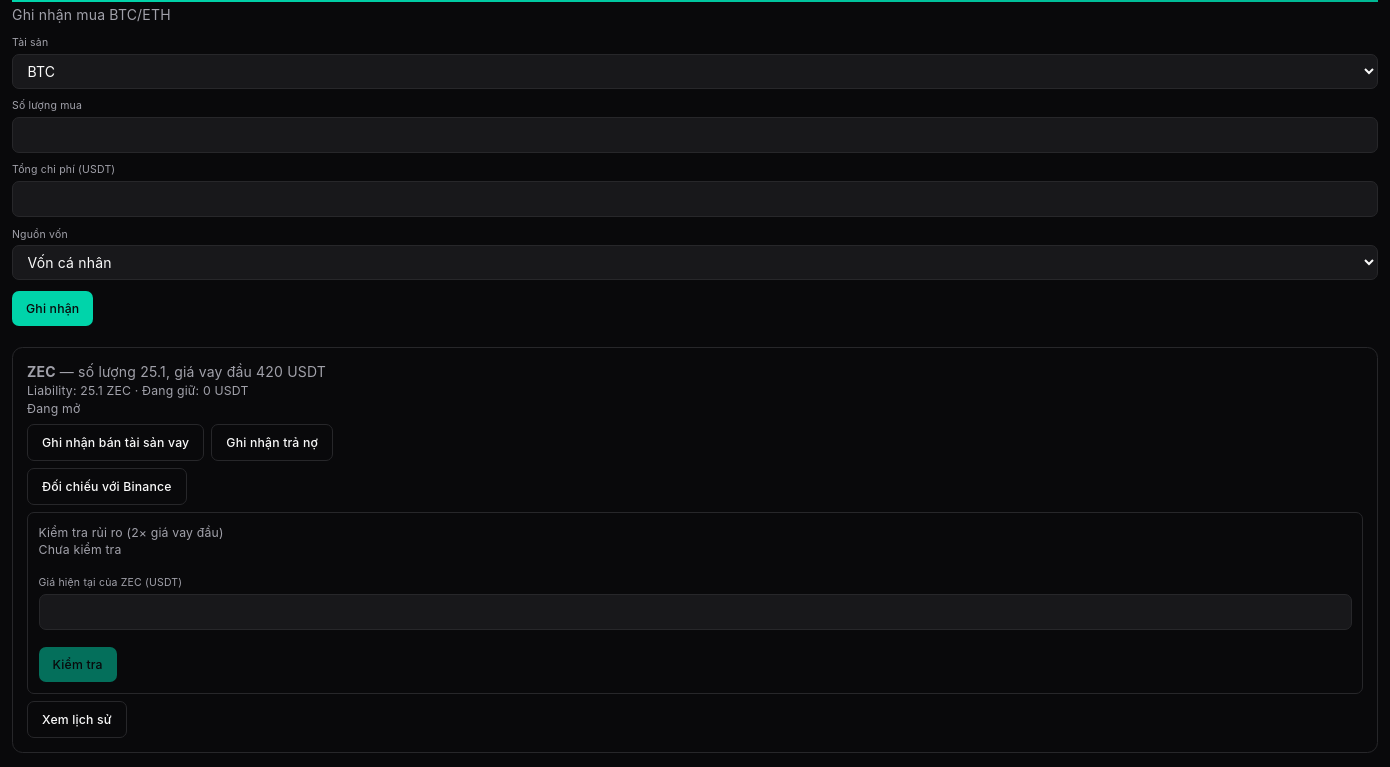
Test: CapitalProvenanceLedgerPage › repaying the full liability shows the REPAID release message (BR-006, AC-006)
The width and height of the screenshot is (1390, 767).
(page scrolled)
Expected: the text "Liability: 25.1 ZEC · Đang giữ: 0 USDT" is shown, [27,383,249,398]
Click the button "Ghi nhận trả nợ" at coordinates (272, 443), box [211,424,333,461]
(page scrolled)
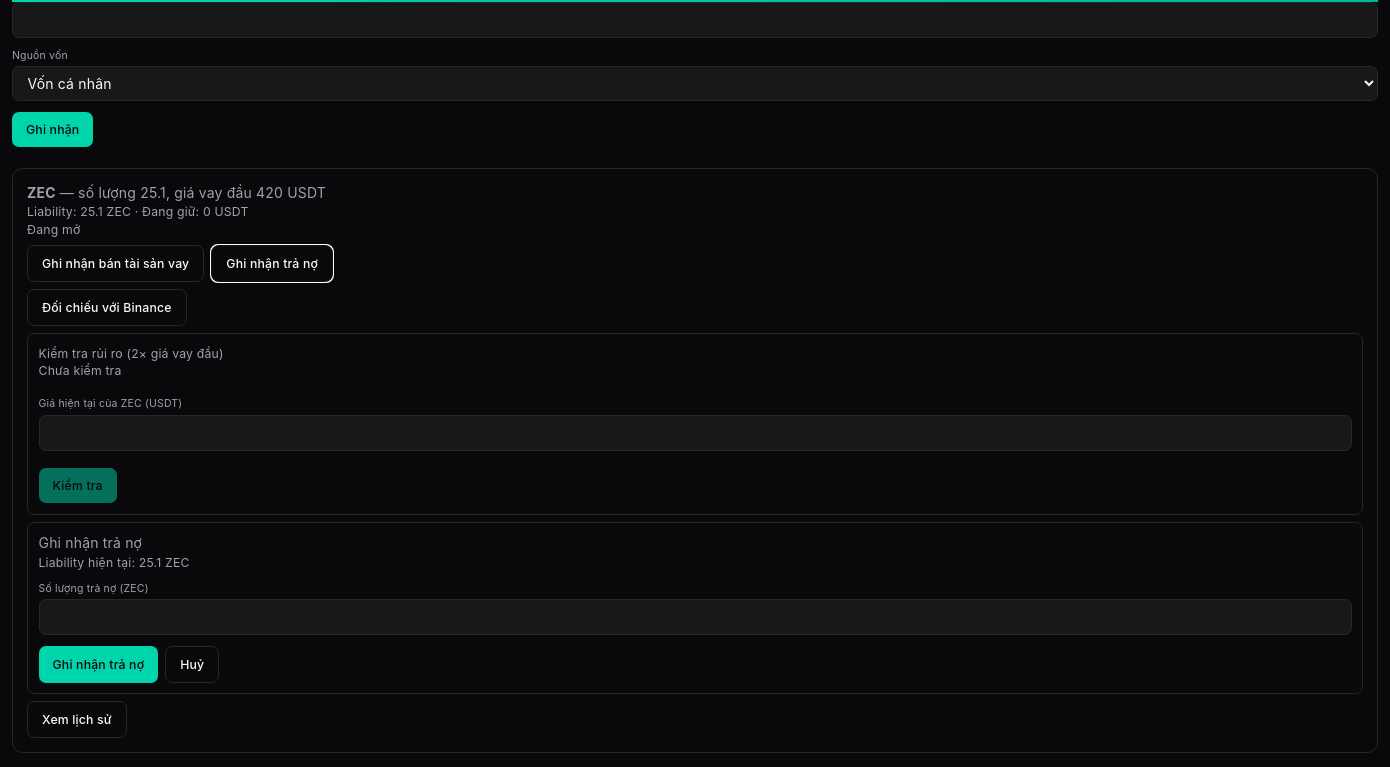
Type "25.1" into the field labelled "Số lượng trả nợ (ZEC)" at coordinates (695, 617), box [38,599,1352,636]
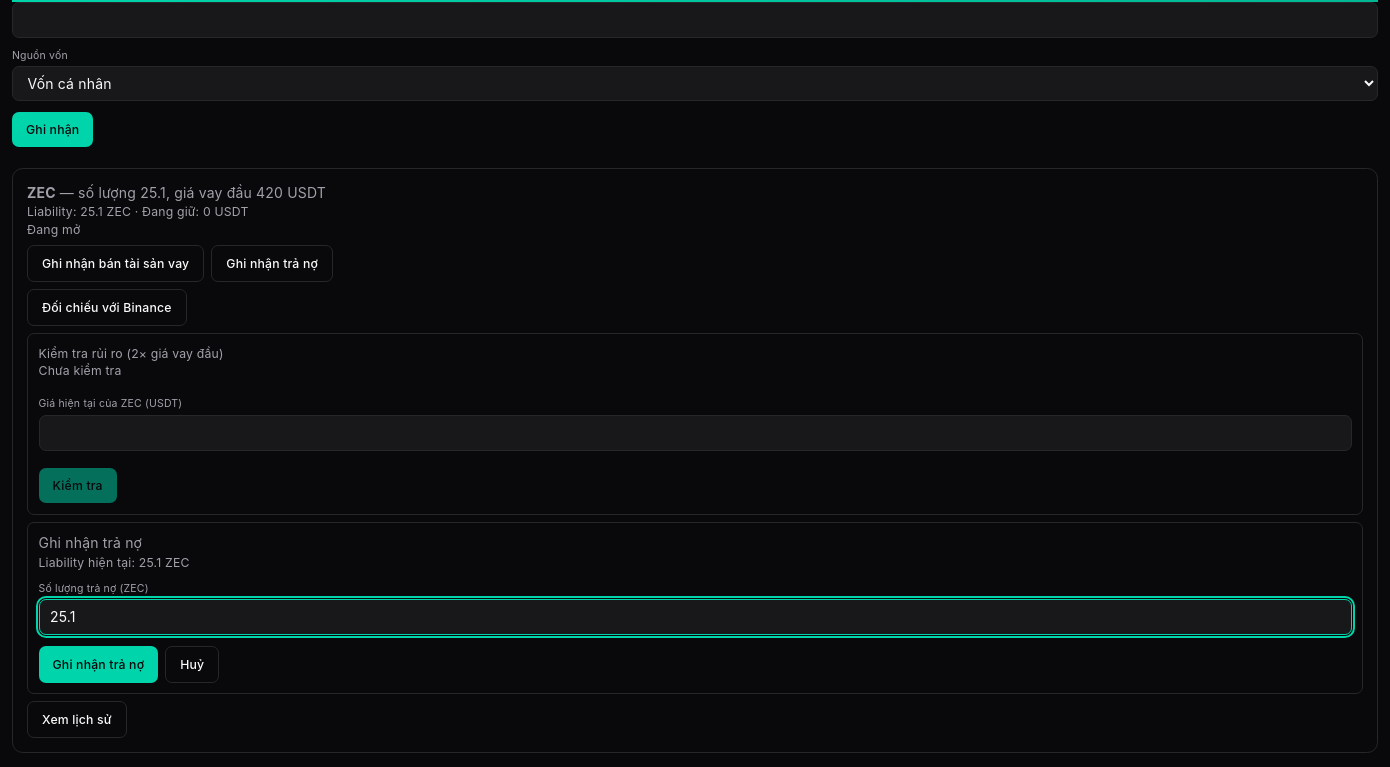
Click the button "Ghi nhận trả nợ" below "Số lượng trả nợ (ZEC)" at coordinates (98, 664), box [38,646,158,683]
(page scrolled)
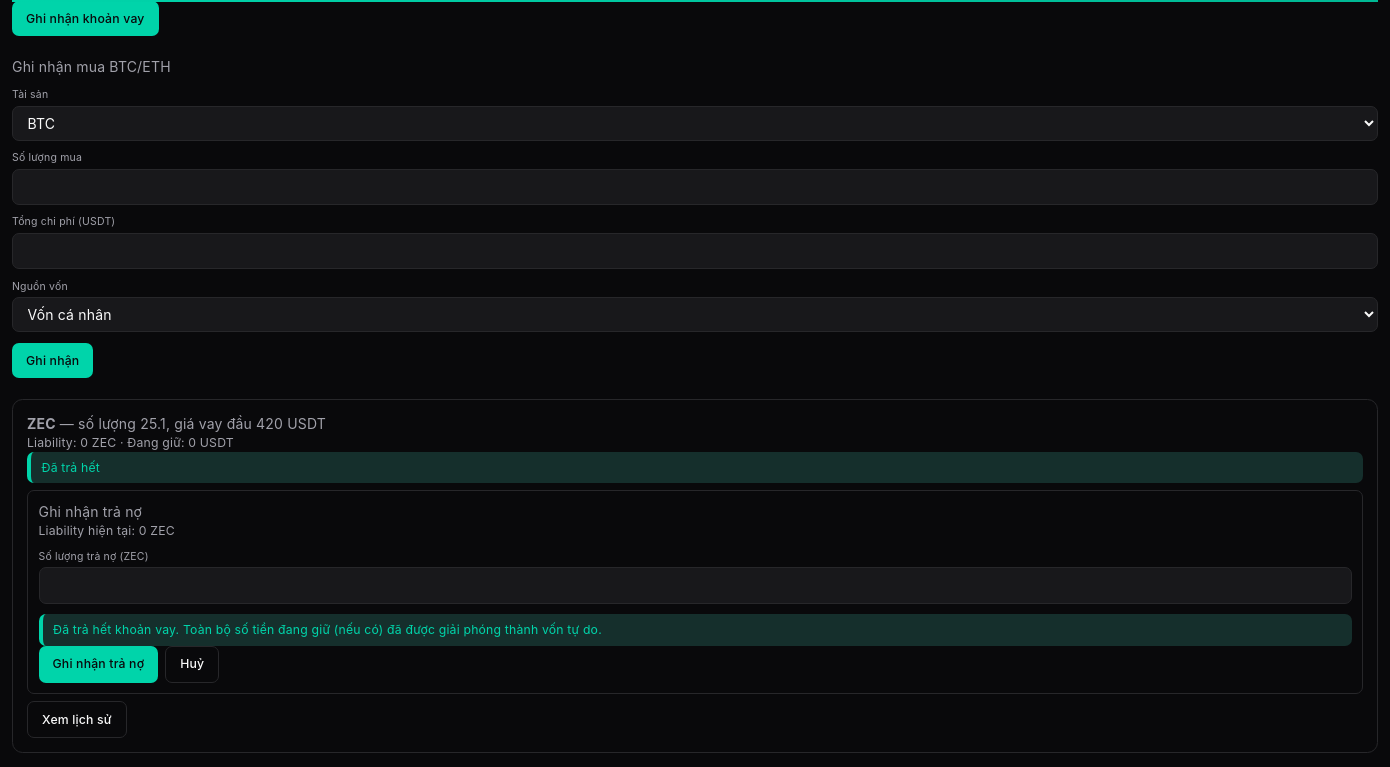
Result: the text "Đã trả hết khoản vay. Toàn bộ số tiền đang giữ" is shown at [53,622,602,637]
